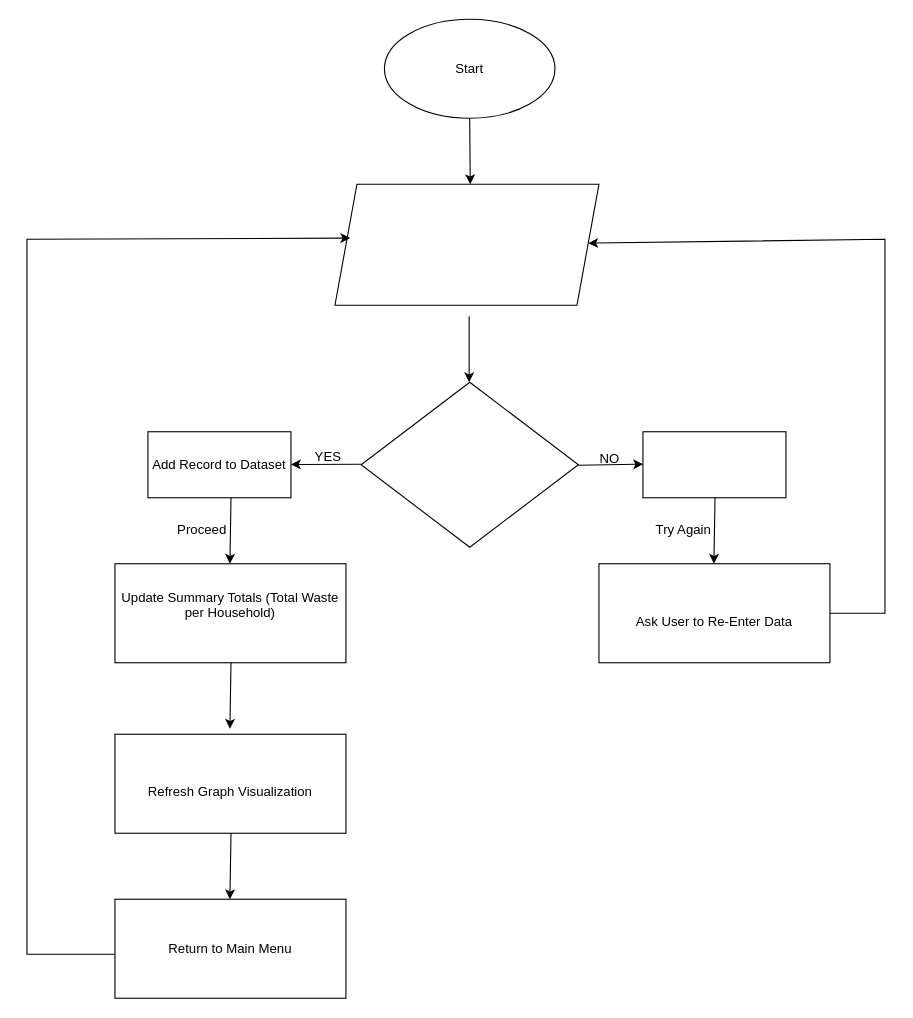
Some shapes in this 913 by 1018 pixel diagram are drawn without their labels. The shapes that lost their labels are listed below. From the top down, each one's box as (x1, y1, x2, y2) in pixels, then its label:
(334, 183, 599, 305): User enters household record (name, address, waste type, weight, date)
(360, 381, 578, 547): Is input valid?
(642, 431, 786, 498): Show error
